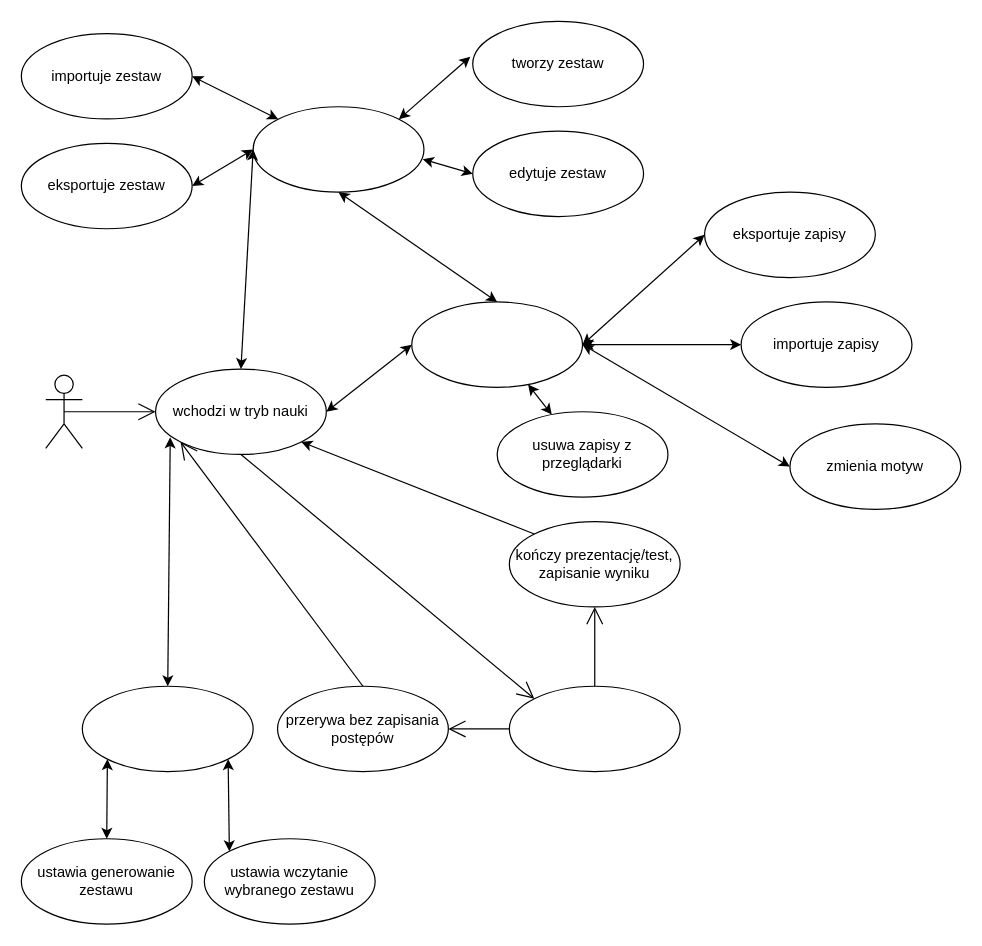
The diagram is 982 pixels wide and 946 high, and some of its shapes have lost their labels. The centre of each missing label's shape, as x and y in pixels:
osoba ucząca się japońskiego: the point at 63,411
wchodzi w szczegóły: the point at 167,728
wchodzi w tryb opcji: the point at 497,344
wchodzi w tryb tworzenia i edycji zestawów: the point at 338,149
zaczyna prezentację/test: the point at 594,728
